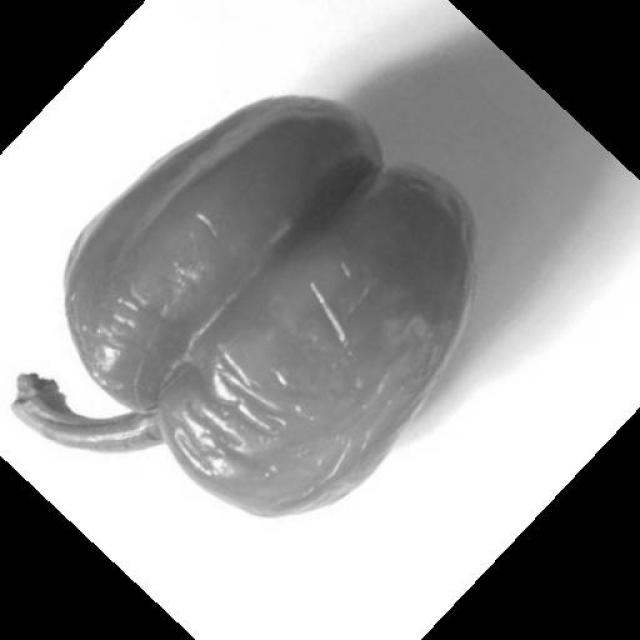Stale_Capsicum: (228, 170, 462, 490)
